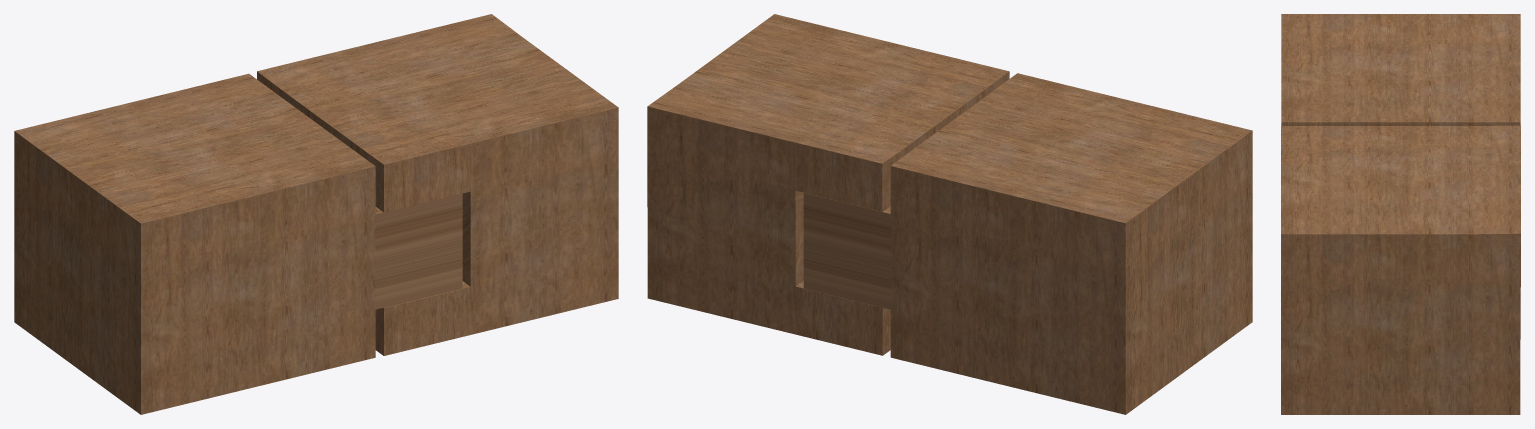
The picture shows the model from 3 angles, left to right: view 1: azimuth 30°, elevation 25°; view 2: azimuth 150°, elevation 25°; view 3: azimuth 270°, elevation 25°; orthographic projection. The views are drawn at different scales.
Visible parts, largest first — view 1: 001, 002; view 2: 001, 002; view 3: 002, 001.
Part boxes in pixels (bbox=[...]): 001: bbox=[14, 73, 462, 414]; 002: bbox=[257, 14, 618, 355]; 001: bbox=[803, 73, 1252, 414]; 002: bbox=[647, 14, 1009, 355]; 002: bbox=[1281, 125, 1520, 414]; 001: bbox=[1281, 14, 1520, 125].
Size of the model in its own units: 3.72 by 1.43 by 1.71.
Materials: 1 (1 with a texture image).
